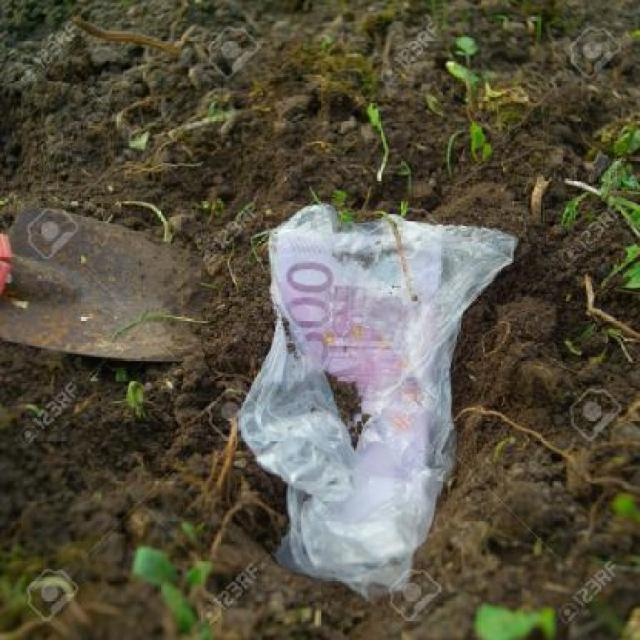plastic bag: (235, 200, 540, 592)
